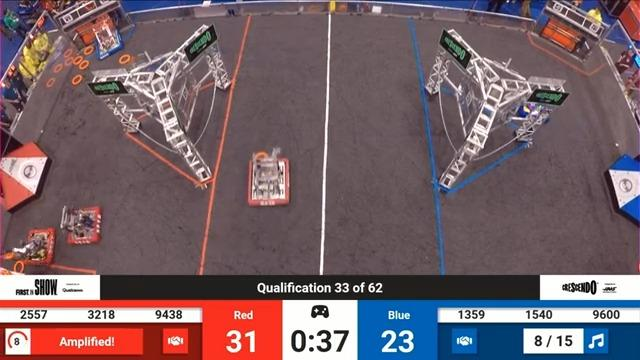robot: (237, 151, 298, 209), (8, 221, 63, 269), (117, 49, 176, 86), (58, 204, 105, 246), (519, 81, 559, 126), (93, 17, 126, 59)
